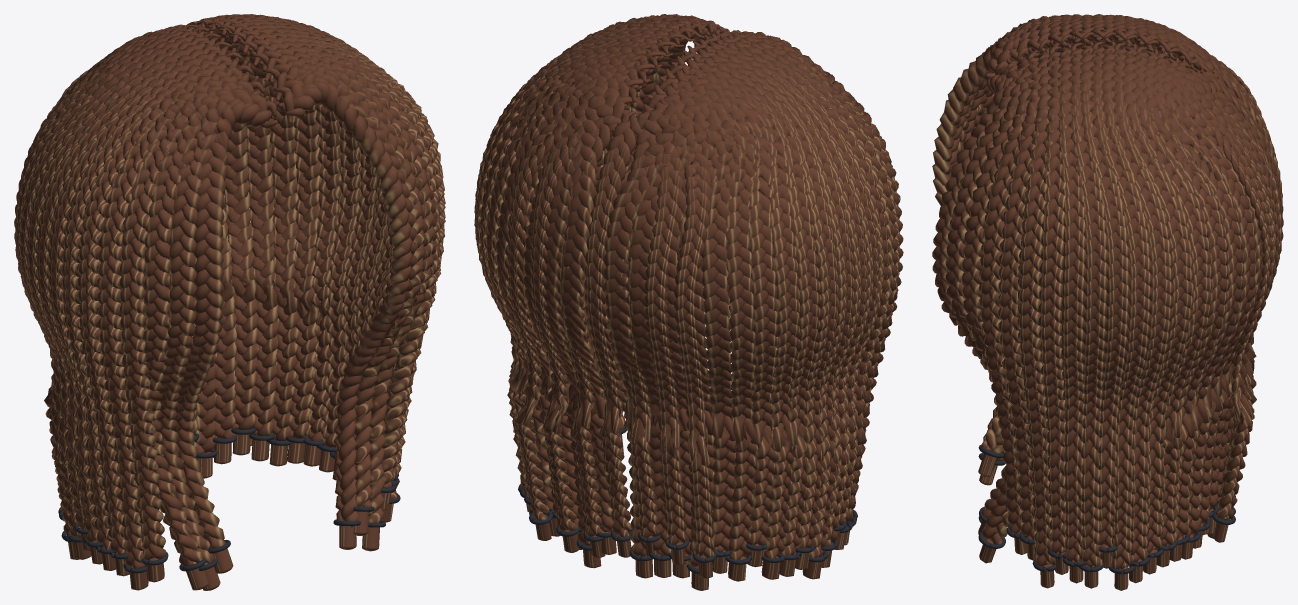
The model's file is Highlights-98ba5dd4d0c0252-hair.glb.
3 renders of one model, left to right at view 1: azimuth 30°, elevation 25°; view 2: azimuth 150°, elevation 25°; view 3: azimuth 270°, elevation 25°, orthographic. The views are drawn at different scales.
Parts seen in each view (by area): view 1: 226 hair / Hair / chestnut226.001, 226 hair / Hair / ties226.001; view 2: 226 hair / Hair / chestnut226.001, 226 hair / Hair / ties226.001; view 3: 226 hair / Hair / chestnut226.001, 226 hair / Hair / ties226.001.
Part boxes in pixels (x1=…): 226 hair / Hair / chestnut226.001: x1=14, y1=14, x2=445, y2=590; 226 hair / Hair / ties226.001: x1=58, y1=428, x2=400, y2=573; 226 hair / Hair / chestnut226.001: x1=474, y1=14, x2=903, y2=590; 226 hair / Hair / ties226.001: x1=518, y1=428, x2=857, y2=573; 226 hair / Hair / chestnut226.001: x1=932, y1=14, x2=1283, y2=590; 226 hair / Hair / ties226.001: x1=978, y1=445, x2=1235, y2=574.
Size of the model in its own units: 1.03 by 1.3 by 0.8491.
Materials: 2 (1 with a texture image).
